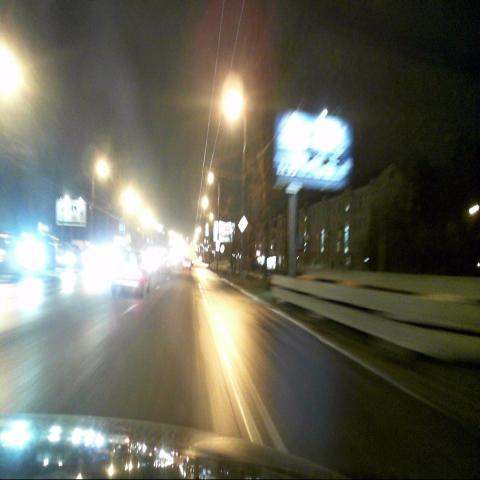2_1: (239, 214, 249, 232)
